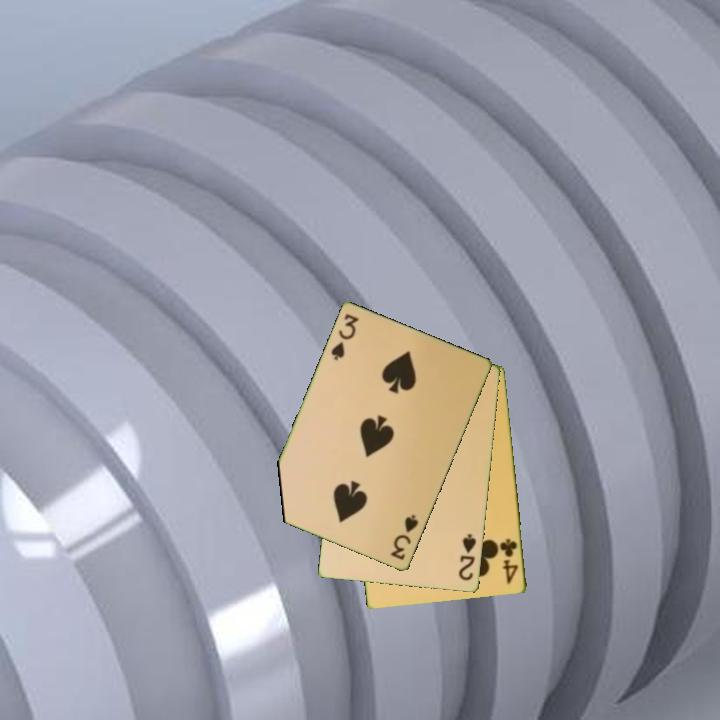2s: (455, 530, 479, 584)
3s: (328, 311, 362, 364), (387, 511, 421, 563)
4c: (497, 535, 521, 587)
